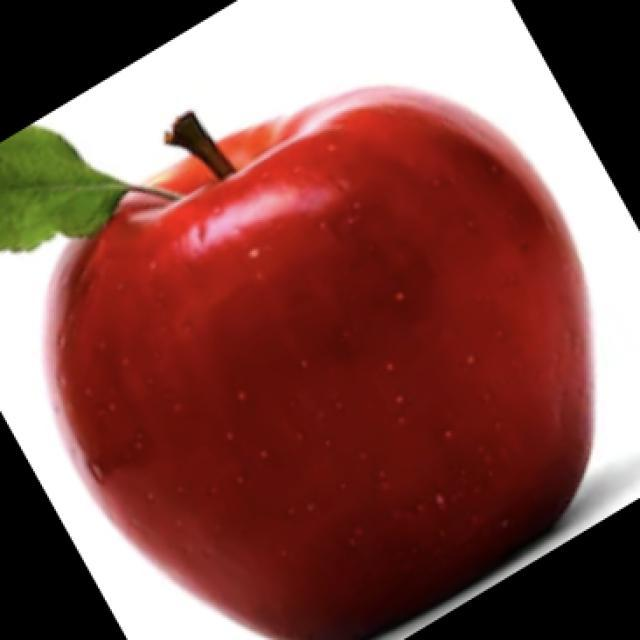Apple: (41, 83, 596, 639)
